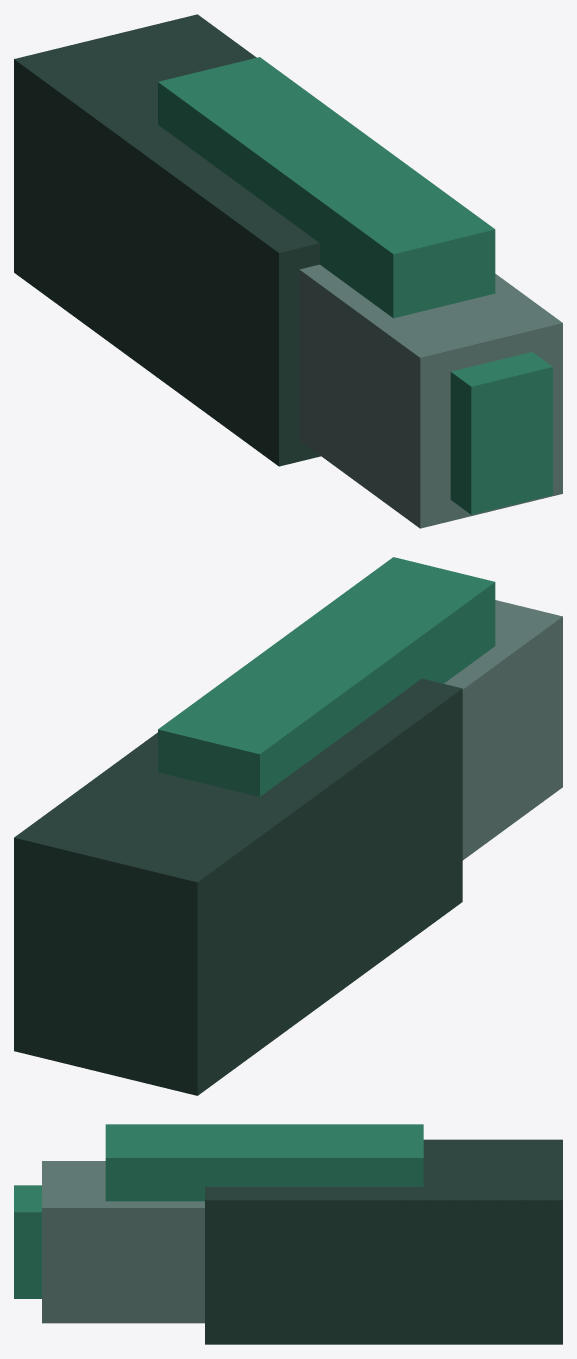
The picture shows the model from 3 angles, top to bottom: view 1: azimuth 30°, elevation 25°; view 2: azimuth 150°, elevation 25°; view 3: azimuth 270°, elevation 25°; orthographic projection. The views are drawn at different scales.
Bounding box in the file's own units: 0.18 × 0.24 × 0.69.
